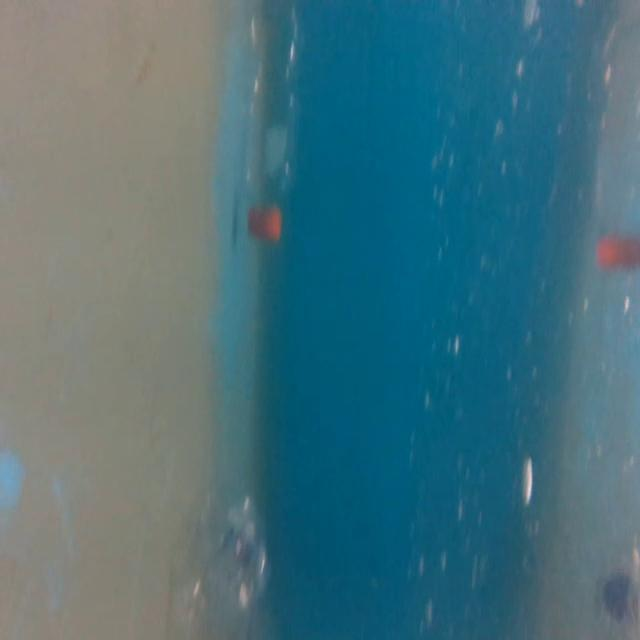plastic bottle: (237, 5, 308, 247)
